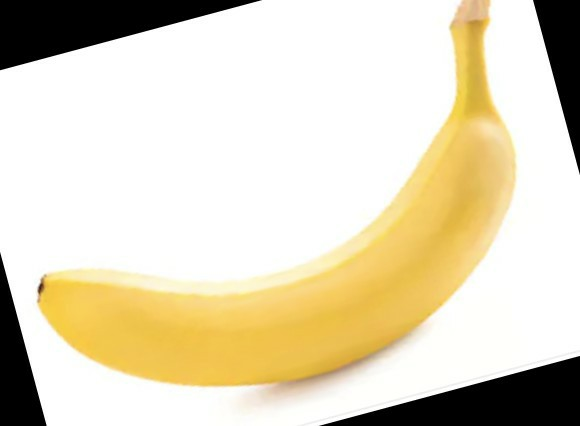fresh_banana: (34, 4, 517, 385)
